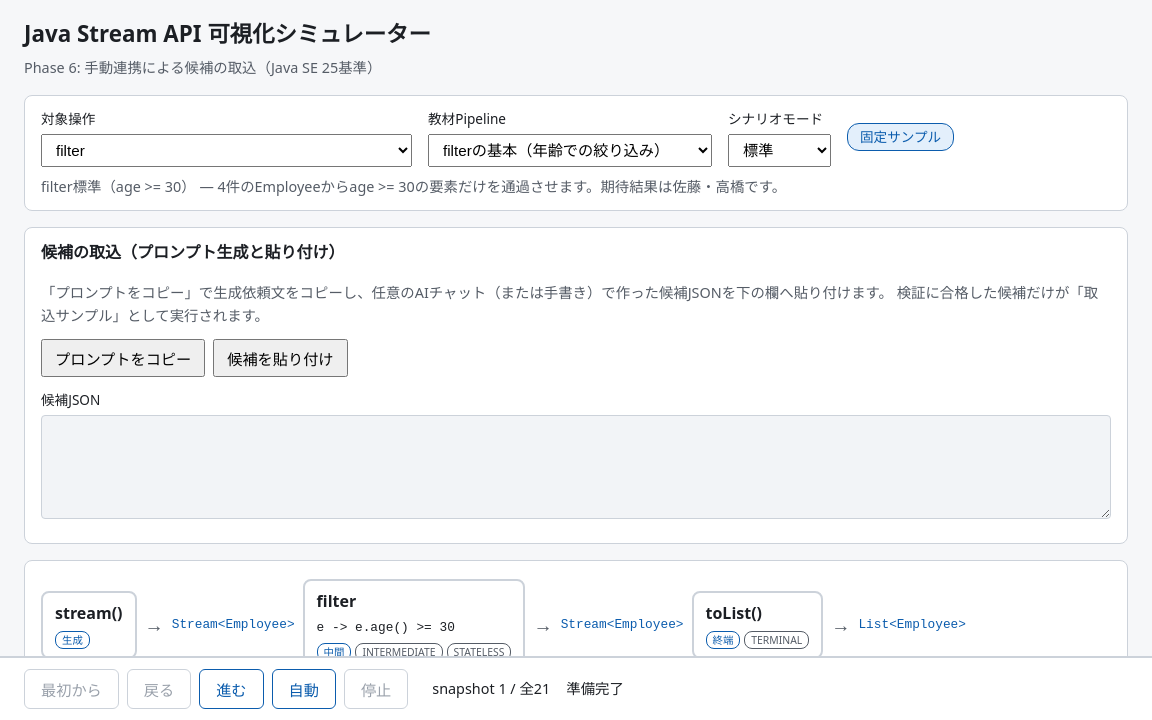
Test: P6-R02 コピー操作 › P6-R02: コピー成功時はフィードバックが表示され、シナリオ・履歴・再生状態が変化しない
The image size is (1152, 720).
Step 1. Click the button "進む" → coordinates (231, 689), box [199,669,264,709]
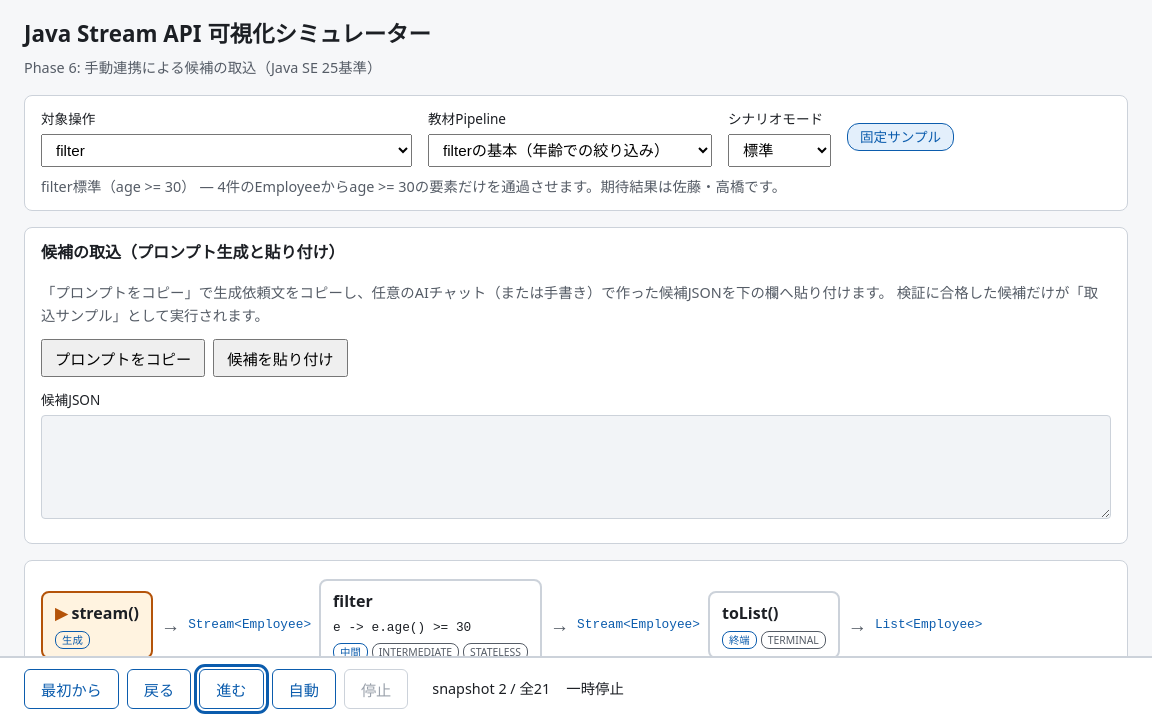
Step 2. Click the button with test id "copy-prompt-button" → coordinates (123, 358), box [41,339,205,377]
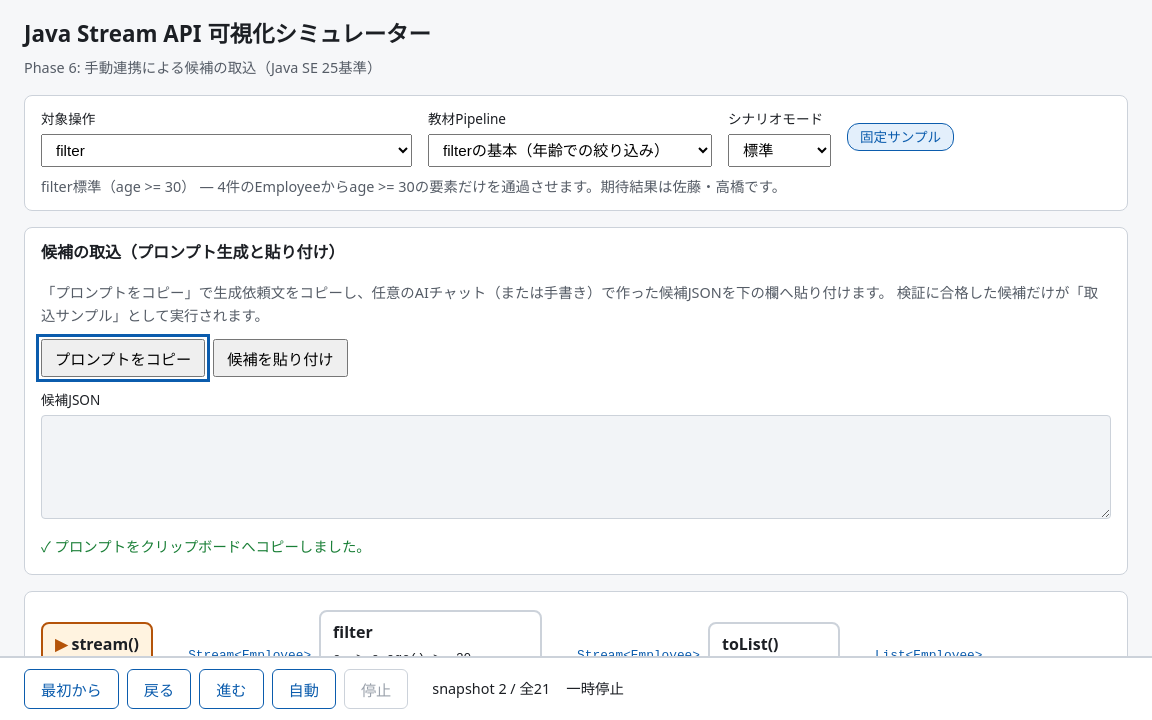
Check: the text with test id "copy-feedback" shows "コピーしました", box [41,537,371,556]
